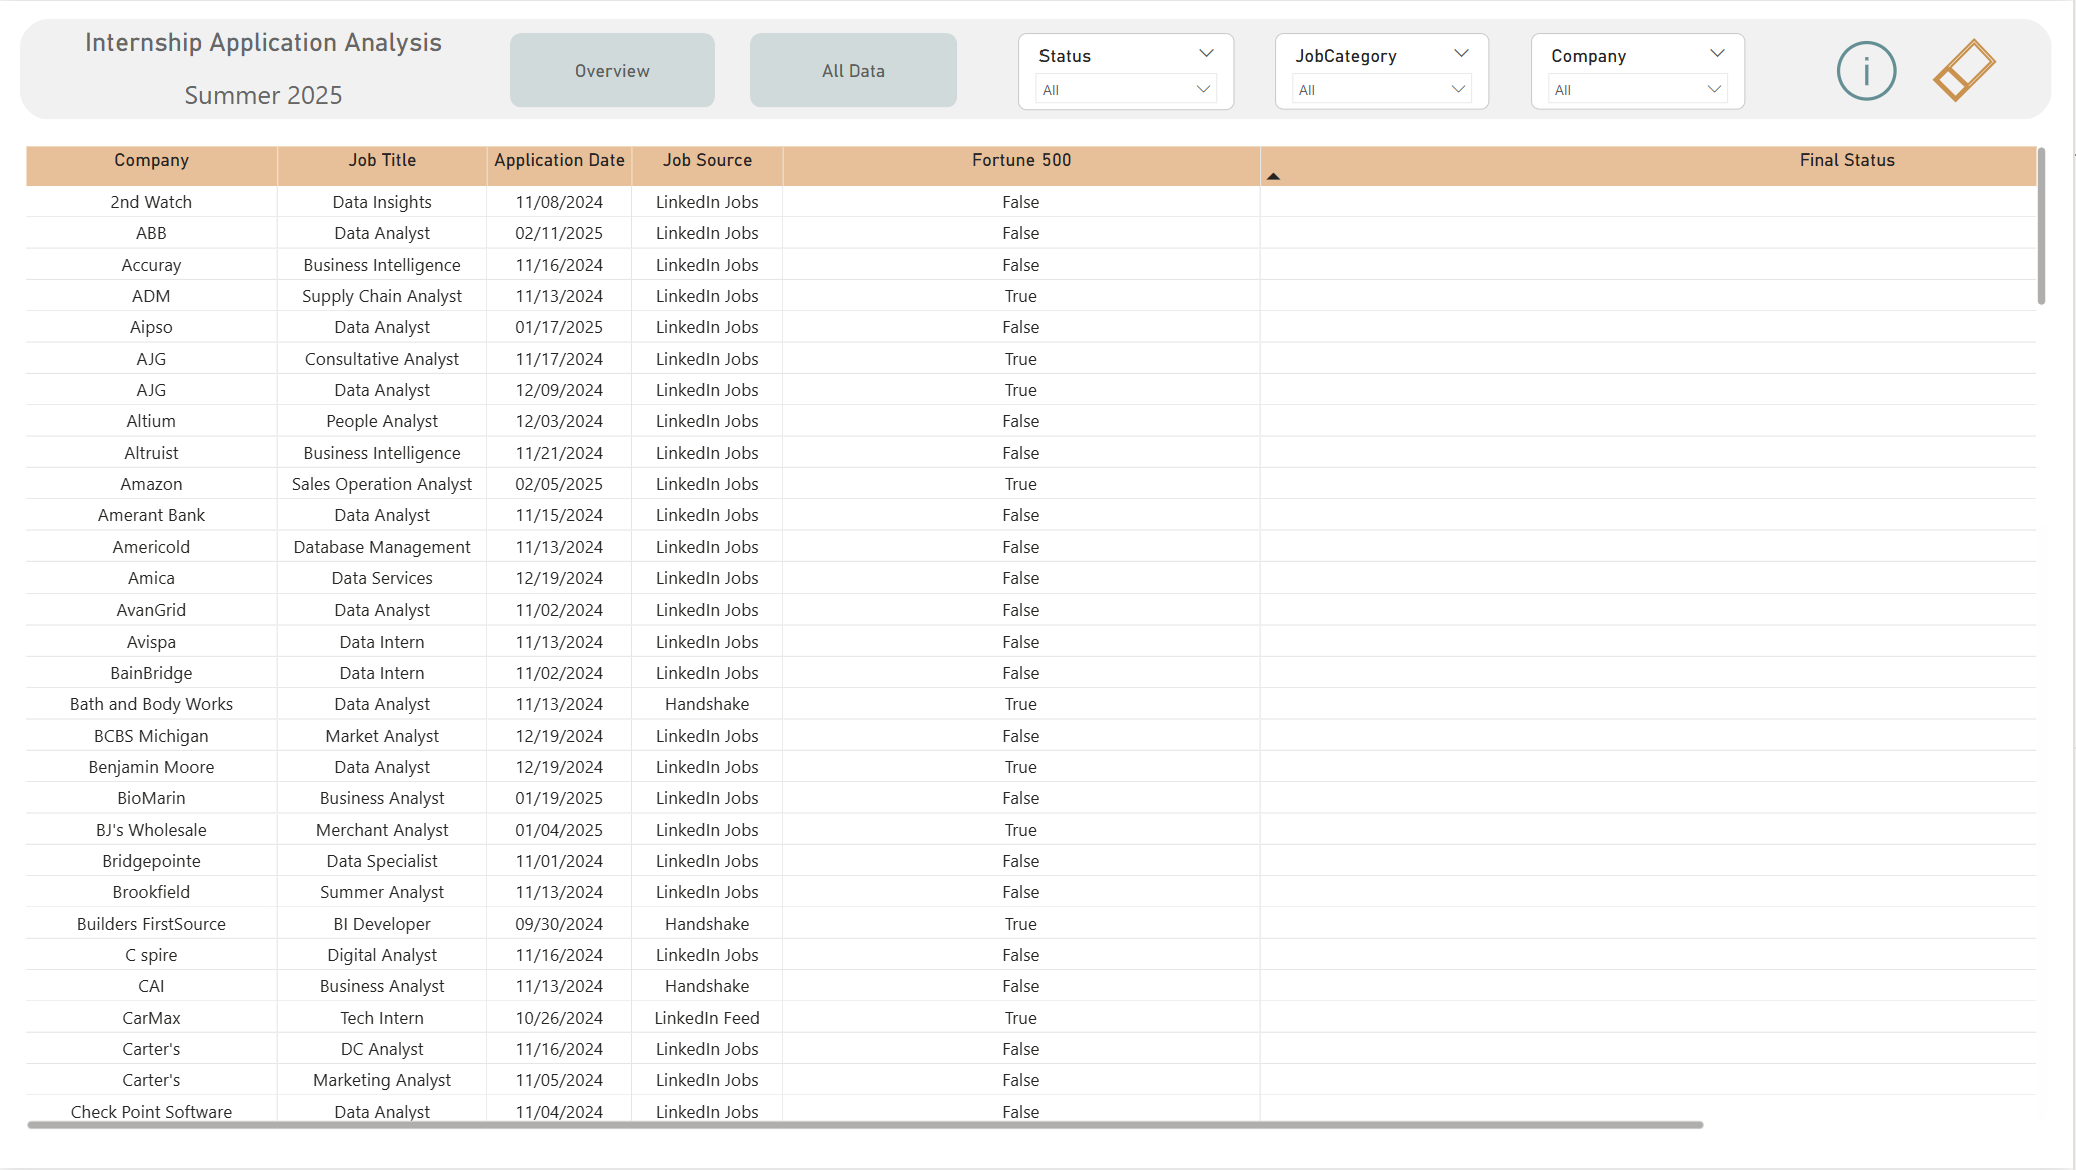

This screenshot's page, from the dashboard's own definition file:
{"tool":"powerbi","page":{"name":"Main Table","canvas":[1920,1080],"ordinal":1},"visuals":[{"type":"shape","box":[20,17,1880,93],"z":0},{"type":"tableEx","fields":{"Values":["Applications.Company","Applications.JobTitle","Applications.FullDateText","Applications.ApplicationSource","Applications.IsFortune500","Applications.FinalStatus"]},"box":[20.7,129.6,1880.1,919.3],"z":1000},{"type":"slicer","fields":{"Values":["Applications.Company"]},"box":[1417,30.3,198.7,70.8],"z":2000,"group":"g1"},{"type":"actionButton","box":[696,30,191.8,69.1],"z":2000},{"type":"actionButton","title":"Overview","box":[474,30,190.1,69.1],"z":3000},{"type":"slicer","fields":{"Values":["Applications.JobCategory"]},"box":[1180.7,30.3,198.7,70.8],"z":4000,"group":"g1"},{"type":"textbox","box":[60,19,373.2,88.1],"z":4000},{"type":"actionButton","box":[1695,30,70,70],"z":5000},{"type":"slicer","fields":{"Values":["StatusHistory.Status"]},"box":[943.5,30,199.6,71.7],"z":6000,"group":"g1"},{"type":"actionButton","box":[1784.6,30,70,70],"z":6000},{"type":"group","id":"g1","title":"Group 1","box":[943.5,30,672.2,71.7],"z":7000}]}

Visuals, with their boxes in screenshot pixels (x1, y1, x2, y2), scaled from the page's 1920x1080 canvas onto the 2076x1170 screenshot:
shape: BBox(22, 18, 2054, 119)
tableEx - Applications.Company x Applications.JobTitle: BBox(22, 140, 2055, 1136)
slicer - Applications.Company: BBox(1532, 33, 1747, 110)
actionButton: BBox(753, 32, 960, 107)
"Overview" actionButton: BBox(513, 32, 718, 107)
slicer - Applications.JobCategory: BBox(1277, 33, 1491, 110)
textbox: BBox(65, 21, 468, 116)
actionButton: BBox(1833, 32, 1908, 108)
slicer - StatusHistory.Status: BBox(1020, 32, 1236, 110)
actionButton: BBox(1930, 32, 2005, 108)
"Group 1" group: BBox(1020, 32, 1747, 110)
